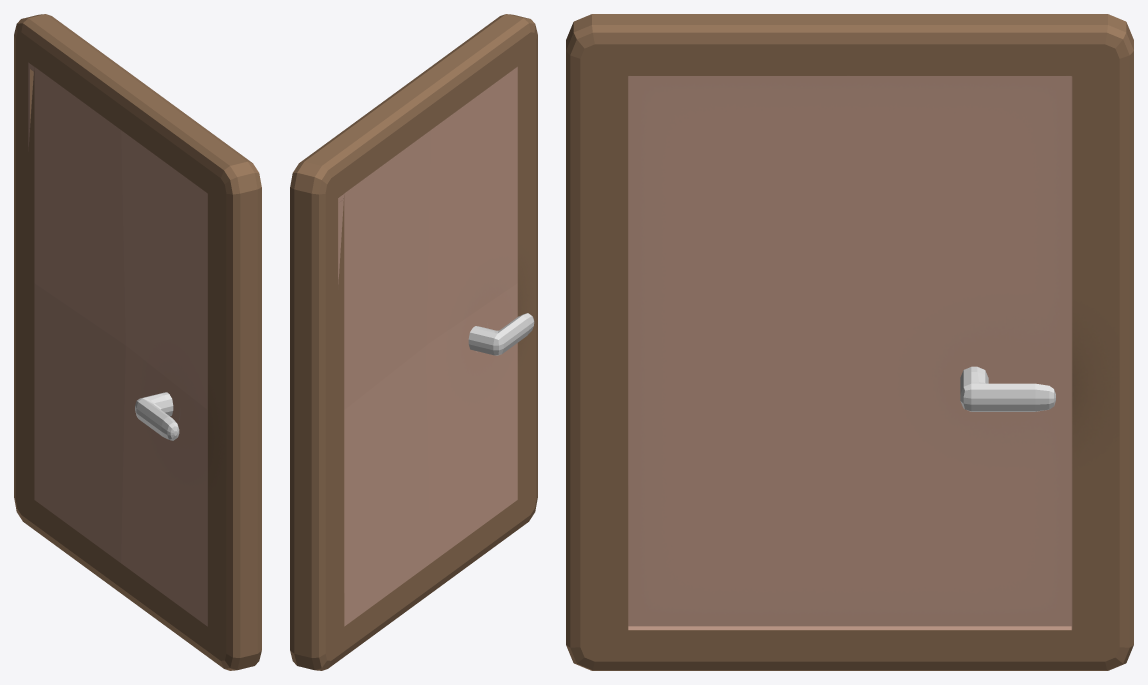
File: door.fbx
The picture shows the model from 3 angles, left to right: view 1: azimuth 30°, elevation 25°; view 2: azimuth 150°, elevation 25°; view 3: azimuth 270°, elevation 25°; orthographic projection. The views are drawn at different scales.
Visible parts, largest first — view 1: Cube.001, Cube.002; view 2: Cube.001, Cube.002; view 3: Cube.001, Cube.003.
Boxes of the visible parts, left/top/right/bottom form: Cube.001: left=14, top=14, right=261, bottom=670; Cube.002: left=135, top=392, right=179, bottom=440; Cube.001: left=290, top=14, right=537, bottom=670; Cube.002: left=468, top=313, right=534, bottom=355; Cube.001: left=566, top=14, right=1133, bottom=670; Cube.003: left=960, top=366, right=1055, bottom=411.
Size of the model in its own units: 91.48 by 493 by 393.
